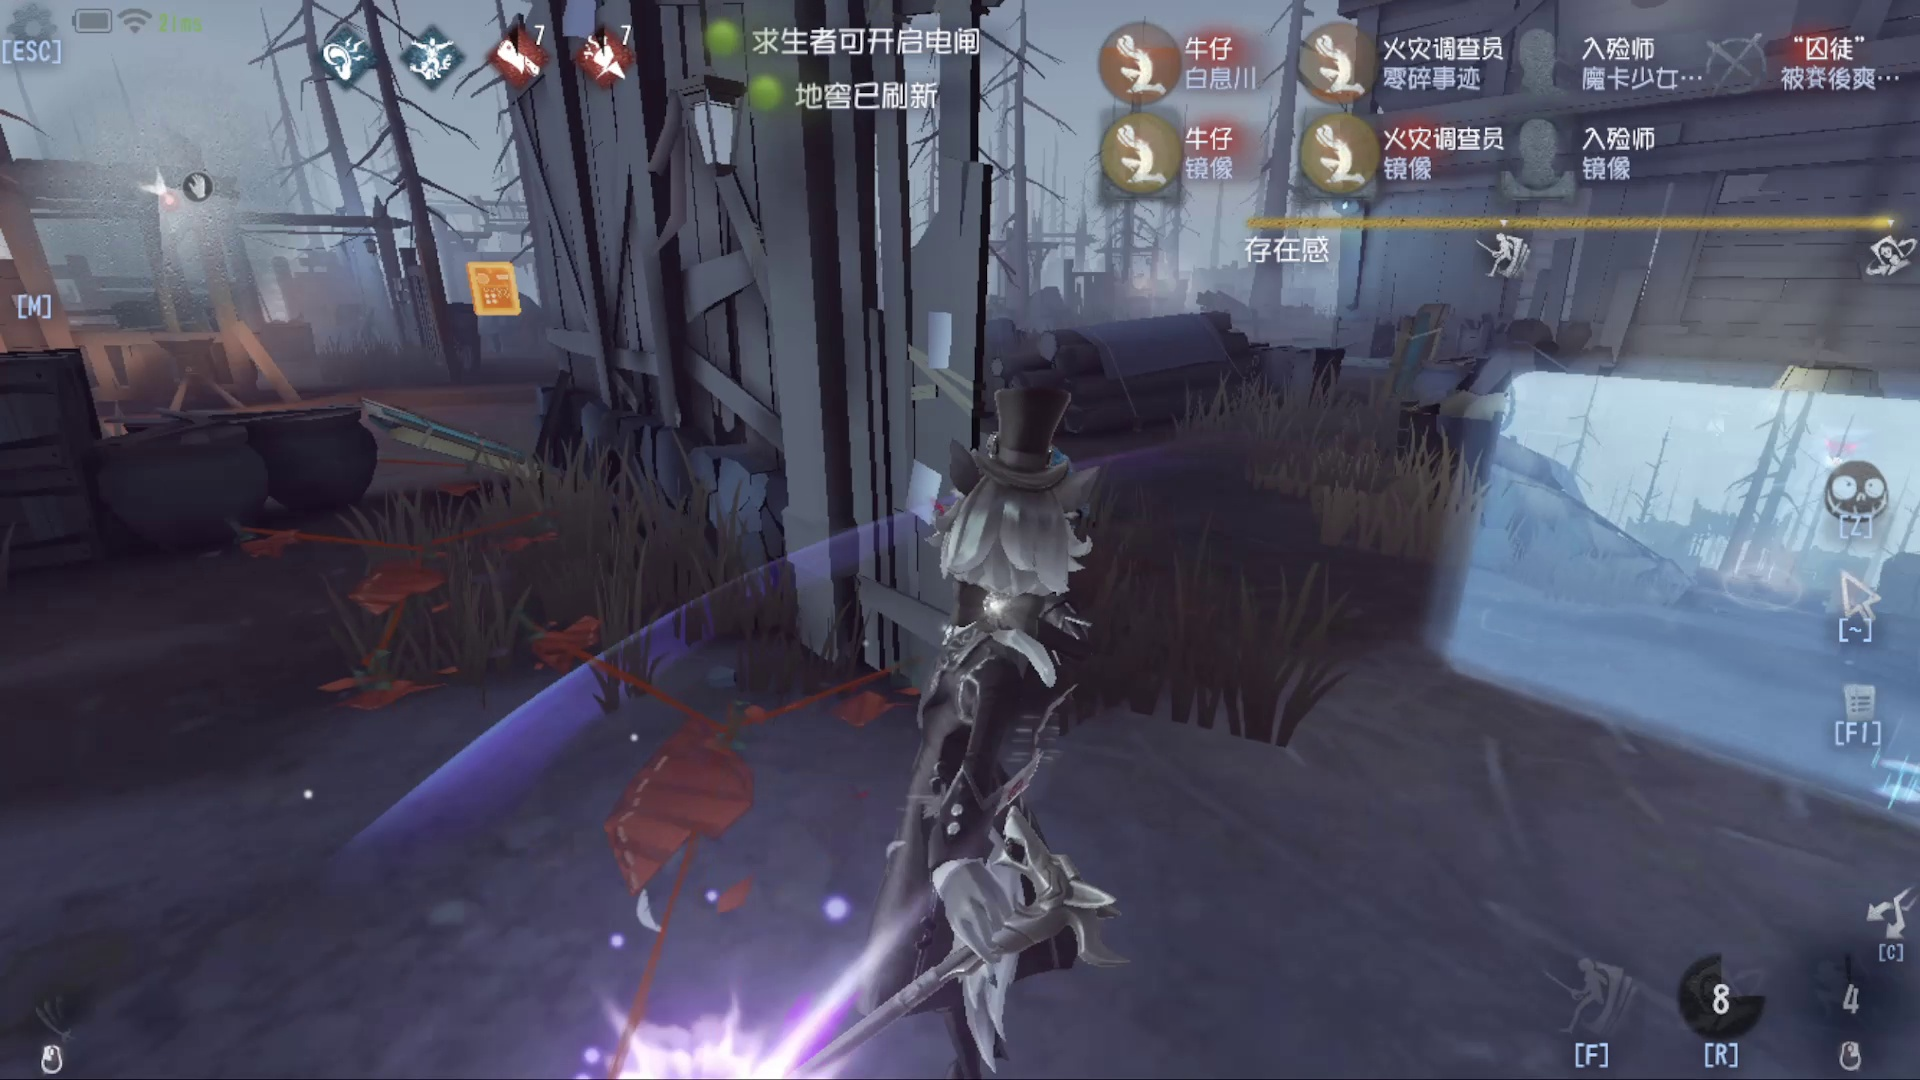木板: (324, 378, 506, 491)
脚印: (243, 509, 756, 885)
